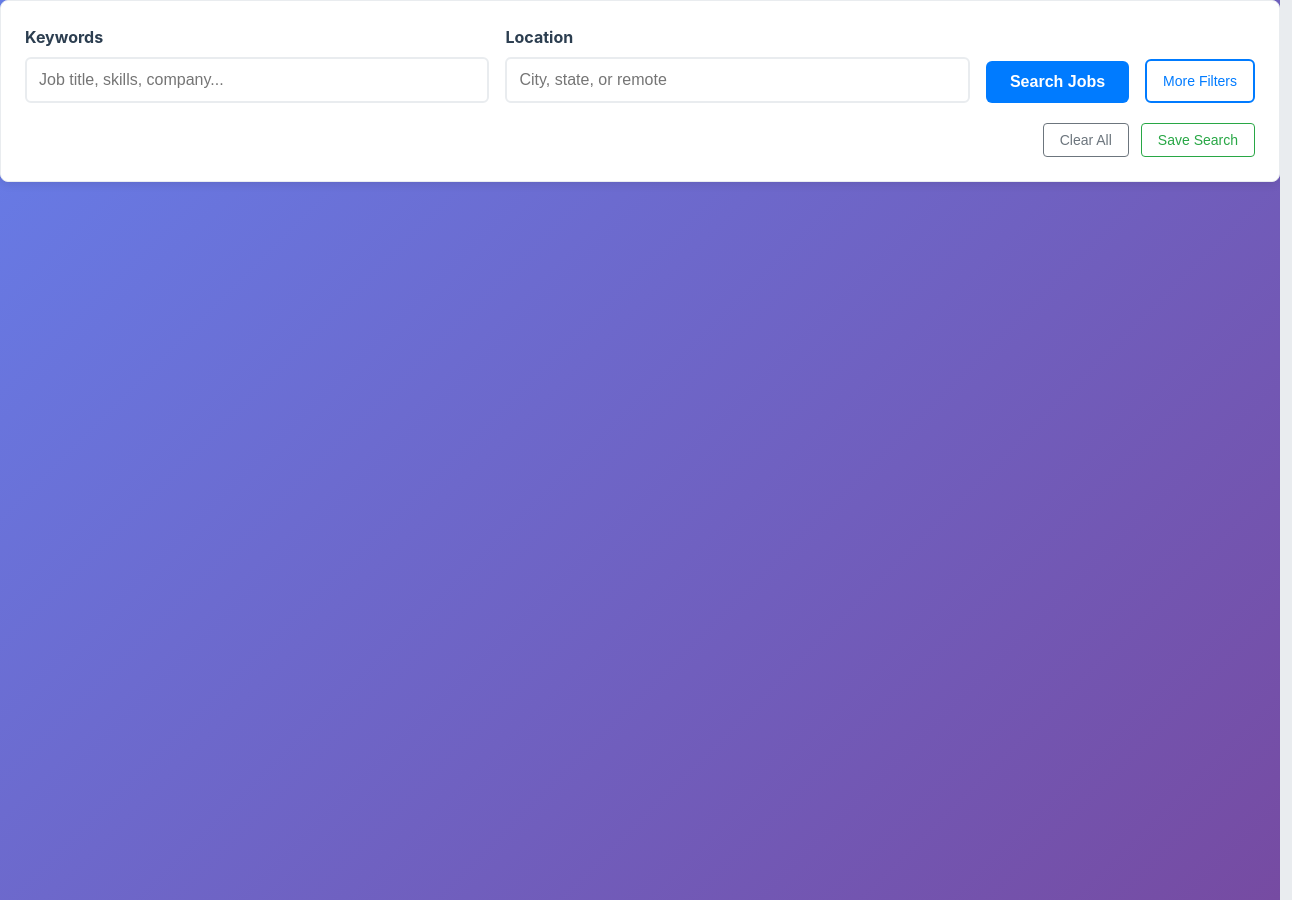
it: JobSearchComponent › allows adding and removing skills
// Show advanced filters
Step 1. Click the button "More Filters" → (1200, 81), box 1145,59 -> 1255,103
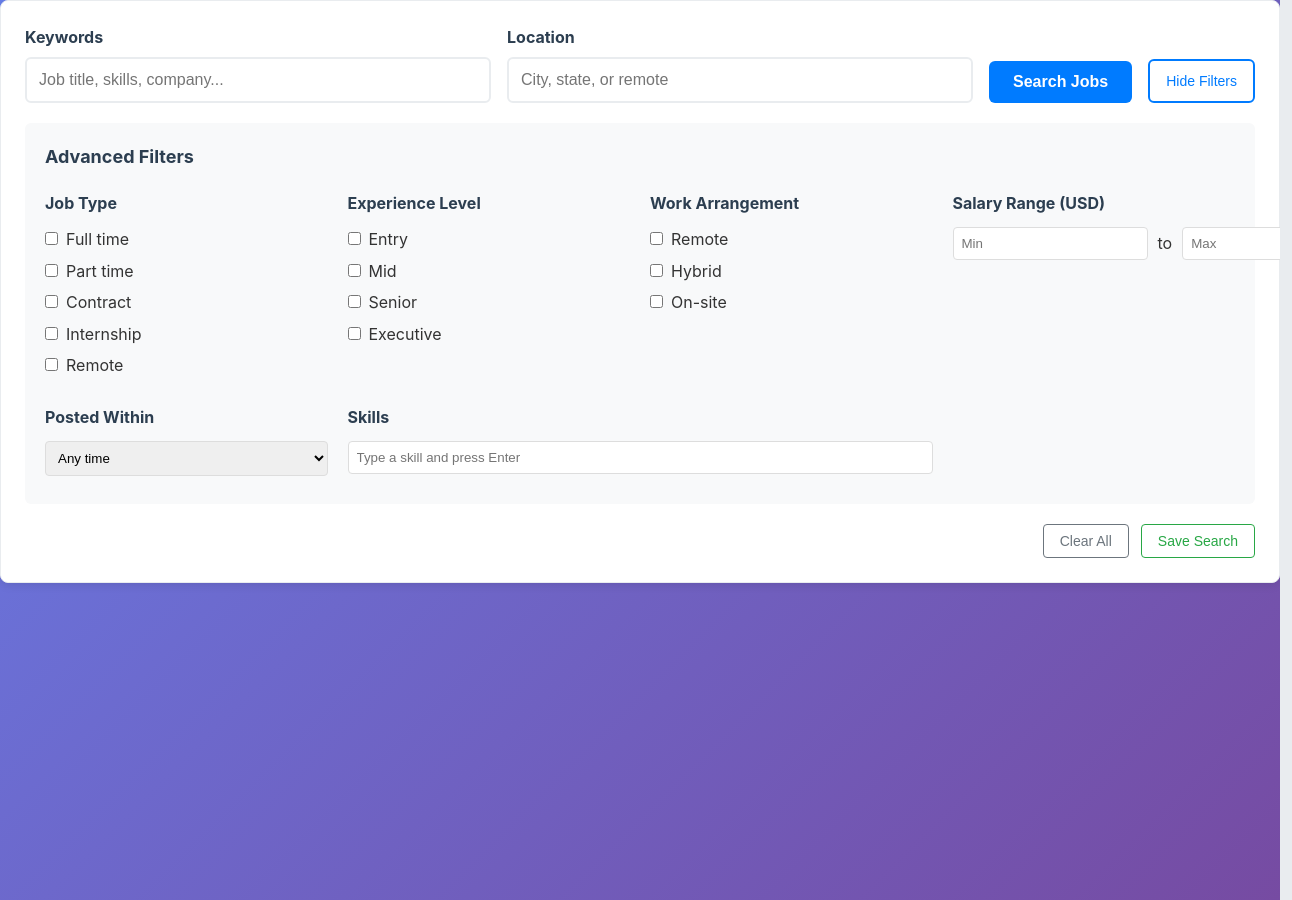
// Add a skill
Step 2. Type "React" into the field with placeholder "Type a skill and press Enter" → (640, 457), box 348,440 -> 932,474
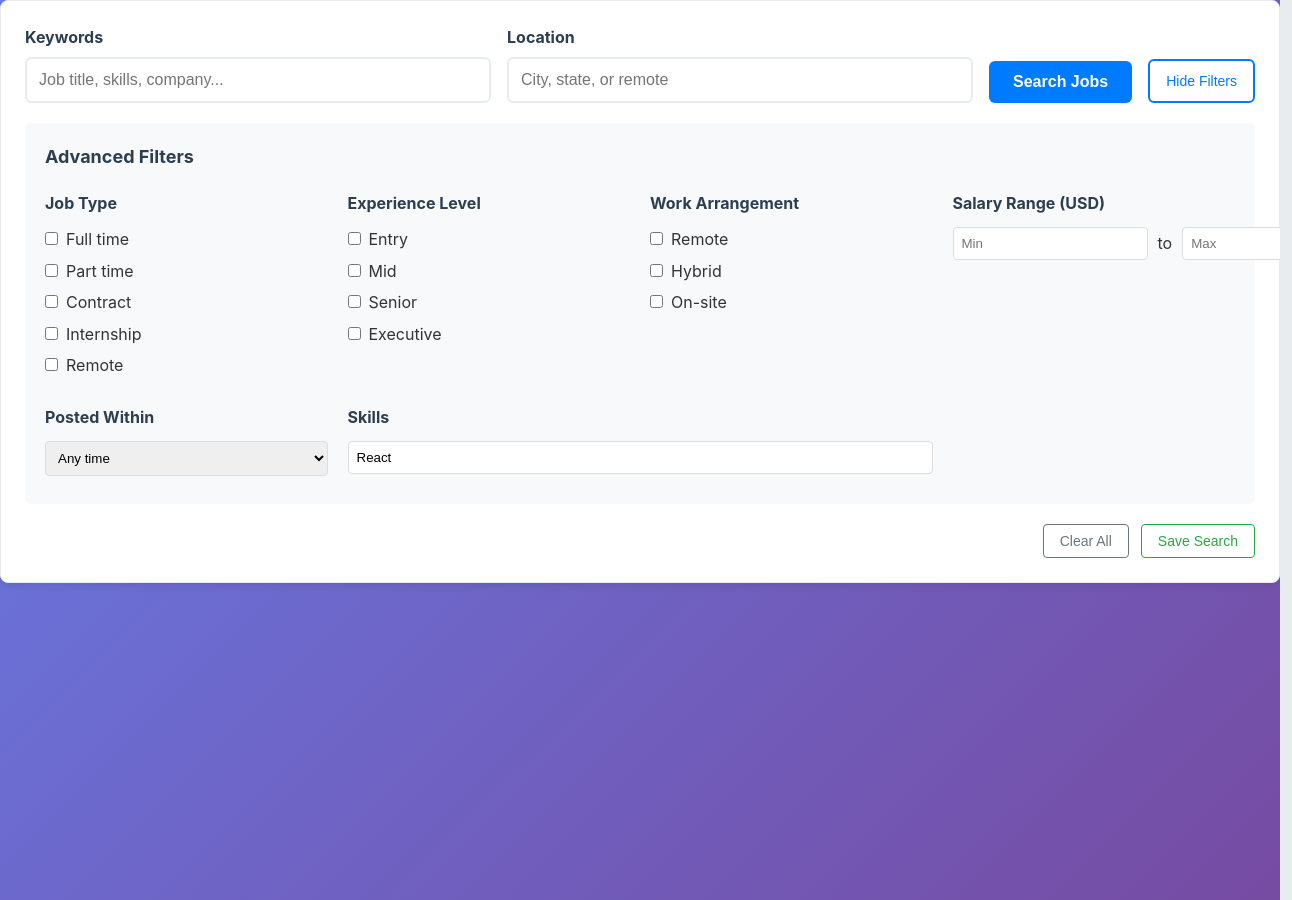
Step 3. Press Enter in the field with placeholder "Type a skill and press Enter", box 348,440 -> 932,474
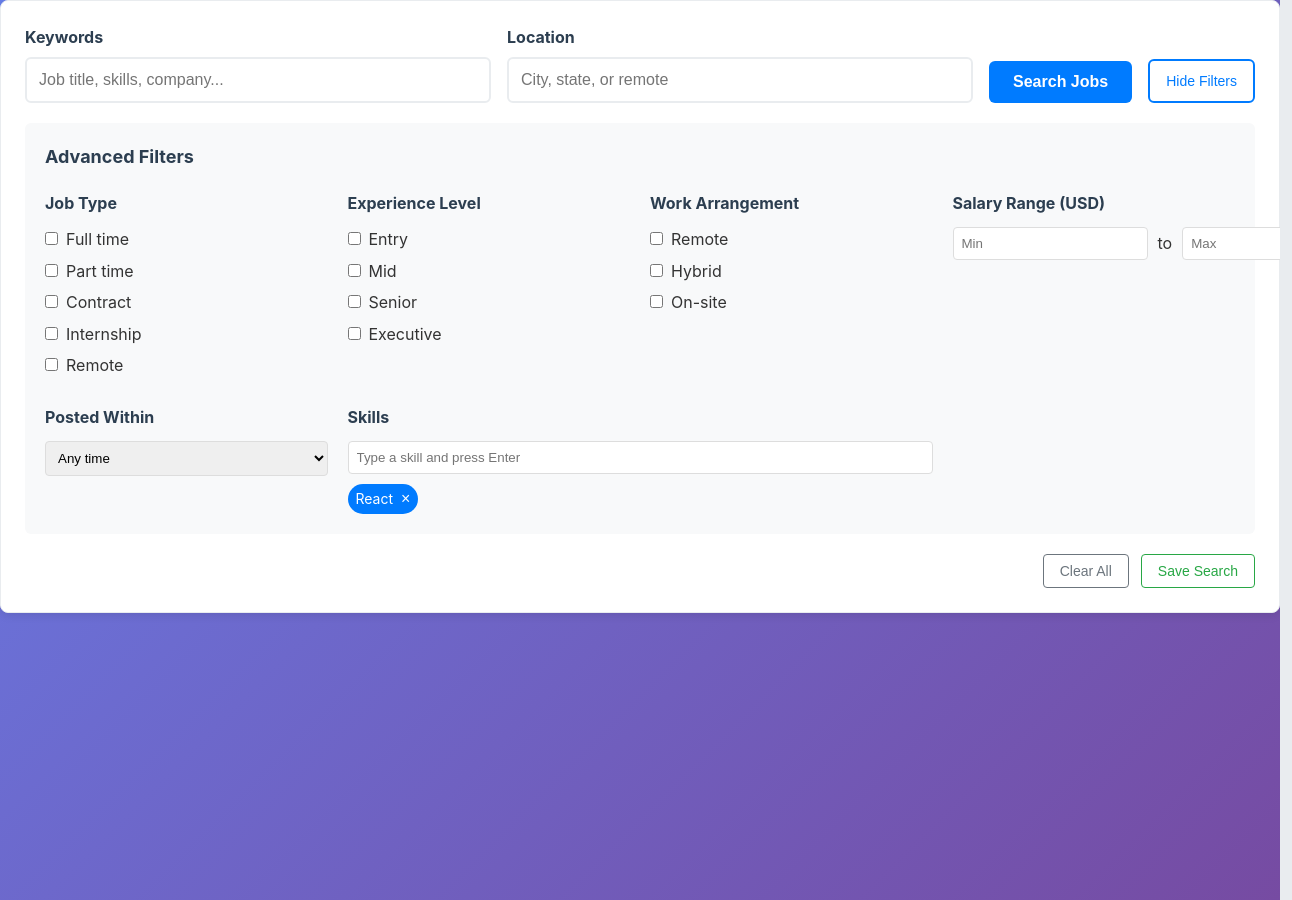
Expected: the text "React" is shown, 356,490 -> 393,506
Expected: the field with placeholder "Type a skill and press Enter" is empty, 348,440 -> 932,474
